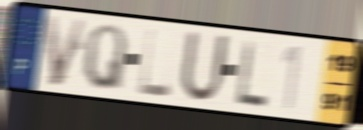1: (281, 44, 302, 112)
L: (137, 26, 174, 100), (235, 37, 269, 110)
Q: (81, 22, 129, 94)
U: (177, 28, 232, 106)
V: (43, 14, 90, 89)
